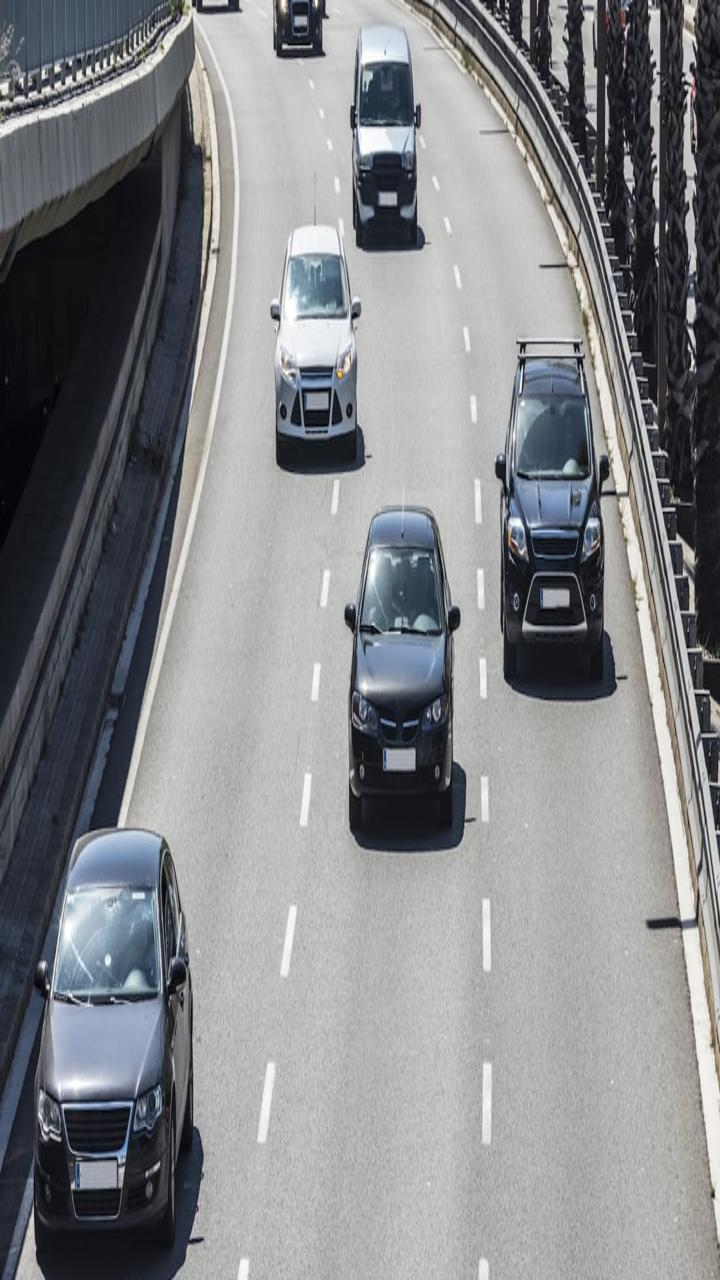vehicle: (22, 813, 202, 1264), (300, 488, 480, 939), (451, 304, 631, 755), (231, 213, 370, 480), (348, 5, 441, 247)
